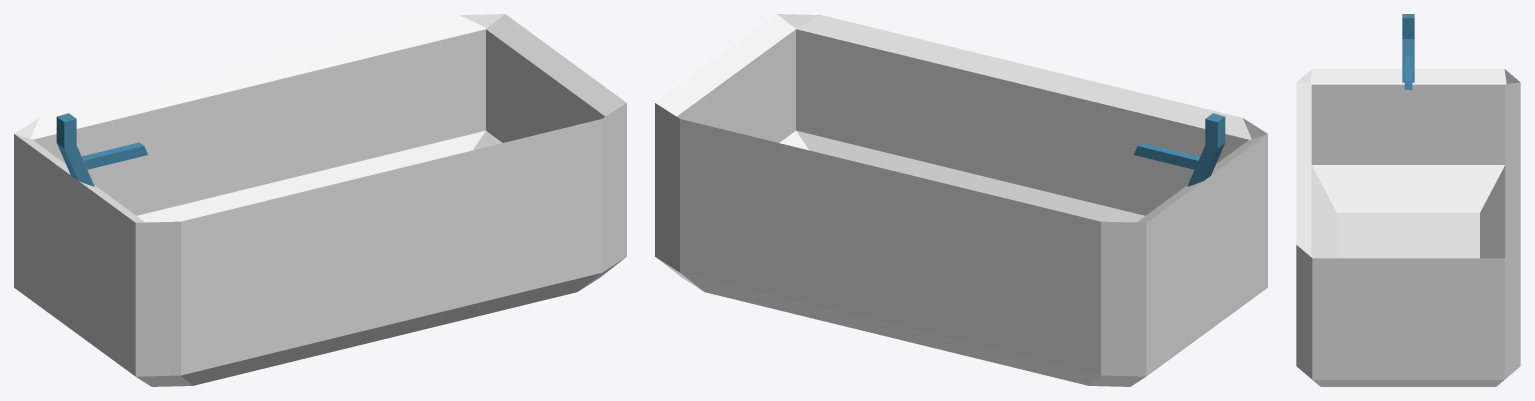
The model's file is tub.glb.
3 renders of one model, left to right at view 1: azimuth 30°, elevation 25°; view 2: azimuth 150°, elevation 25°; view 3: azimuth 270°, elevation 25°, orthographic. The views are drawn at different scales.
Visible parts, largest first — view 1: Cube; view 2: Cube; view 3: Cube.
Boxes of the visible parts, box(x1,y1,x2,y2) form: Cube: box(14, 14, 626, 386); Cube: box(655, 14, 1267, 386); Cube: box(1296, 14, 1520, 386).
Size of the model in its own units: 1.56 by 0.6979 by 0.76.
Materials: 1 (1 with a texture image).
